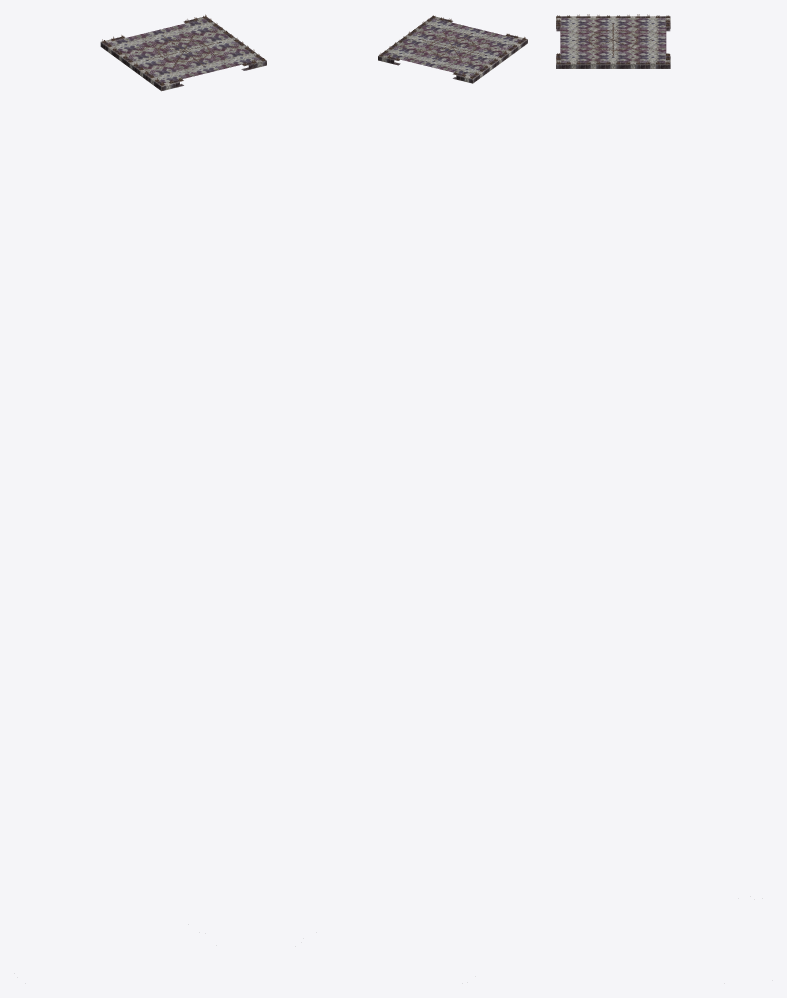
The picture shows the model from 3 angles, left to right: view 1: azimuth 30°, elevation 25°; view 2: azimuth 150°, elevation 25°; view 3: azimuth 270°, elevation 25°; orthographic projection. The views are drawn at different scales.
Visible parts, largest first — view 1: n5r1-bos01_0; view 2: n5r1-bos01_0; view 3: n5r1-bos01_0.
Part boxes in pixels (x1,y1,x2,y2): n5r1-bos01_0: (100,14,266,91); n5r1-bos01_0: (378,15,527,83); n5r1-bos01_0: (556,14,670,68).
Bounding box in the file's own units: 102 × 502 × 109.
Materials: 7 (7 with a texture image).
